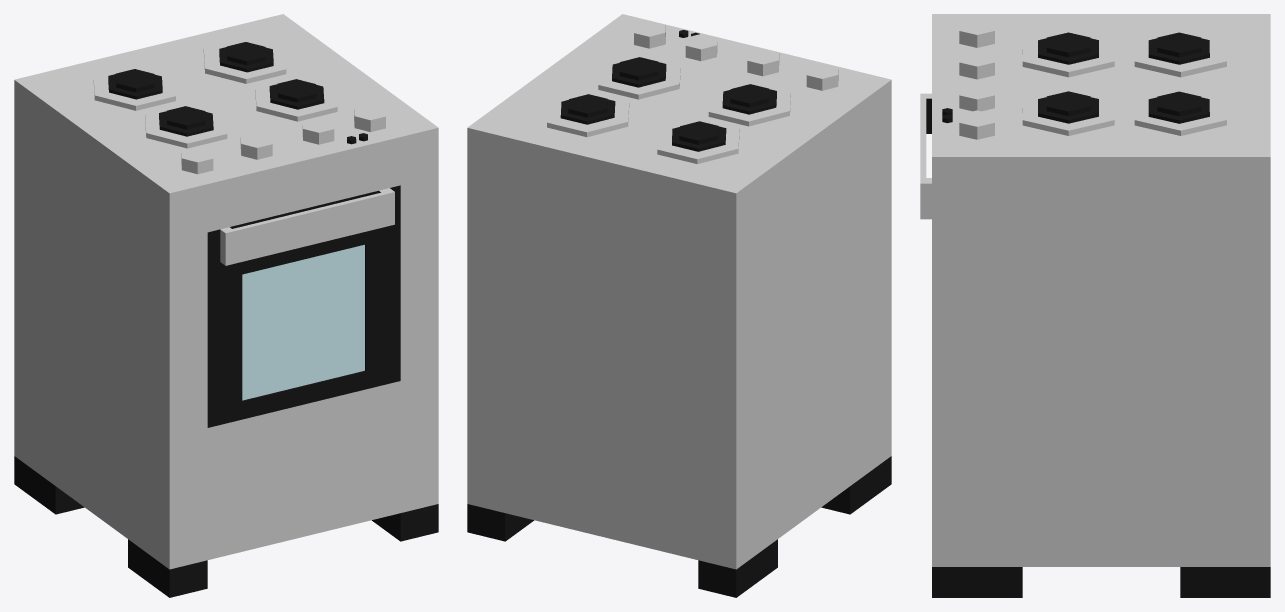
Rendered from fogao.fbx.
The picture shows the model from 3 angles, left to right: view 1: azimuth 30°, elevation 25°; view 2: azimuth 150°, elevation 25°; view 3: azimuth 270°, elevation 25°; orthographic projection. The views are drawn at different scales.
Parts seen in each view (by area): view 1: Cube; view 2: Cube; view 3: Cube.
Part boxes in pixels (x1,y1,x2,y2): Cube: (14, 14, 438, 597); Cube: (467, 14, 891, 597); Cube: (920, 14, 1270, 597).
Size of the model in its own units: 279 by 413 by 288.
